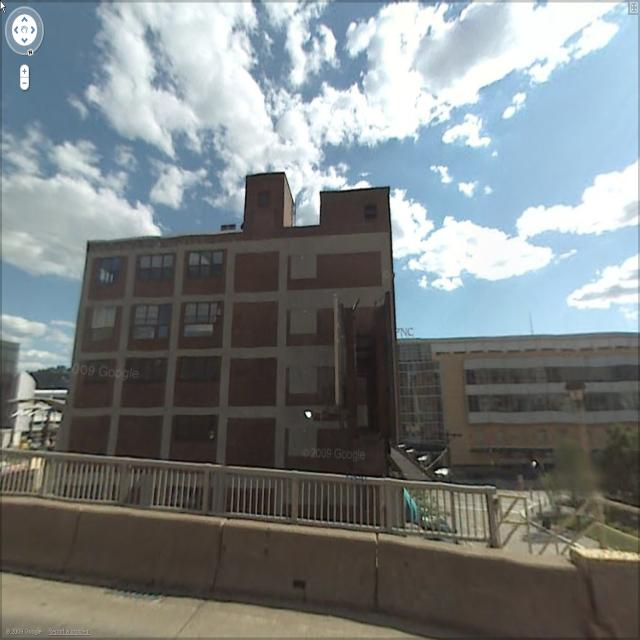b_1: (45, 166, 403, 486), (396, 324, 633, 470)
